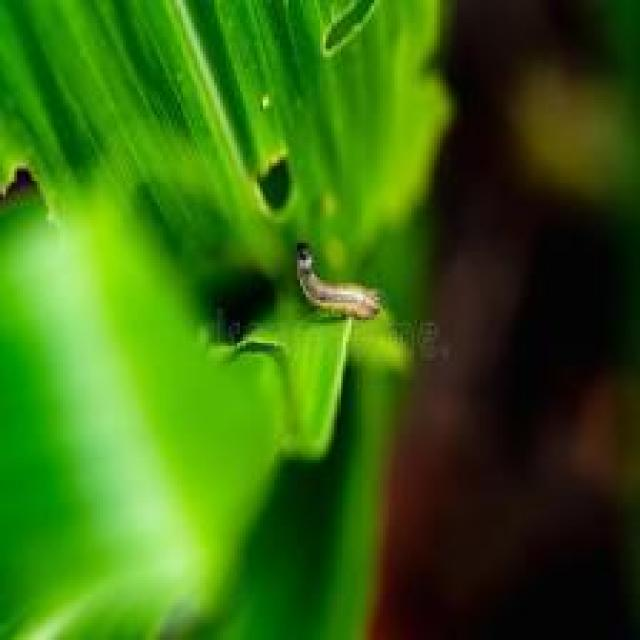Plaga: (288, 237, 385, 345)
